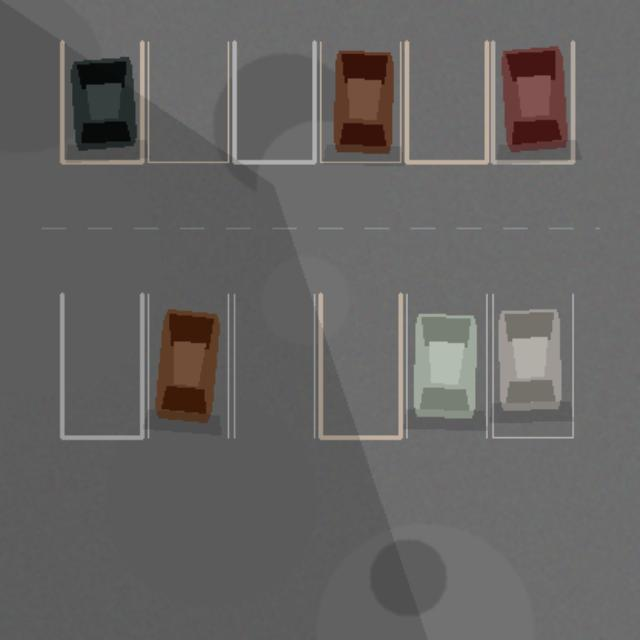space-empty: (62, 294, 142, 437), (234, 294, 314, 437), (320, 294, 400, 437), (148, 42, 228, 162), (234, 42, 314, 162), (406, 42, 486, 162)
space-occupied: (148, 294, 228, 437), (406, 294, 486, 437), (492, 294, 572, 437), (62, 42, 142, 162), (320, 42, 400, 162), (492, 42, 572, 162)
